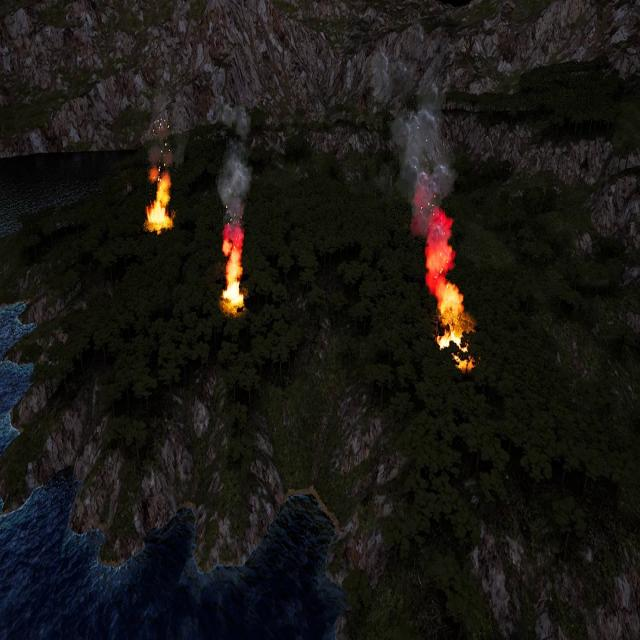fire: (424, 218, 475, 370), (221, 223, 246, 311), (147, 170, 174, 228)
smoke: (370, 41, 460, 288), (216, 105, 252, 218), (146, 89, 182, 170)
